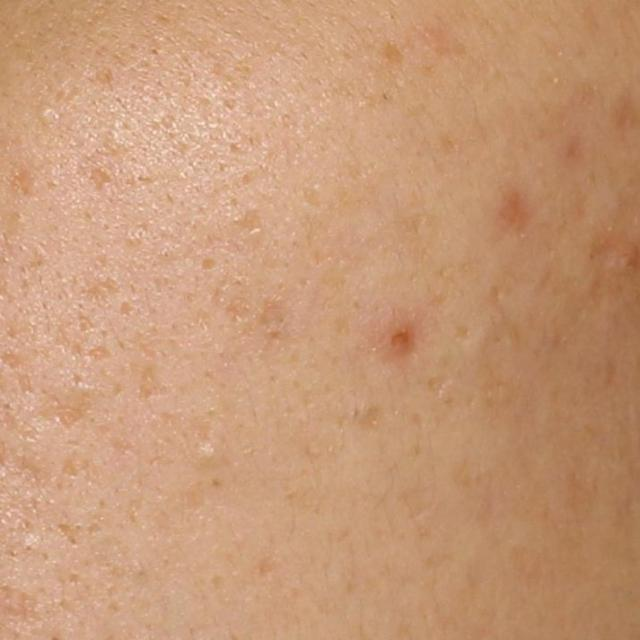blackhead: (208, 477, 224, 491)
